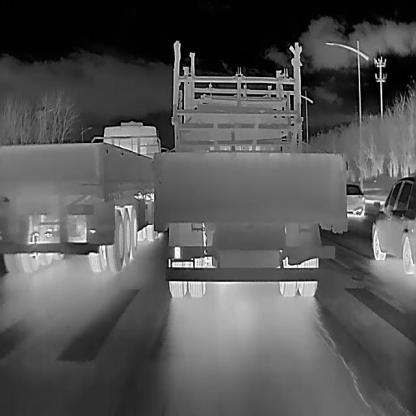car: (370, 176, 416, 274), (341, 182, 366, 218)
truck: (152, 86, 347, 297), (0, 119, 168, 274)
